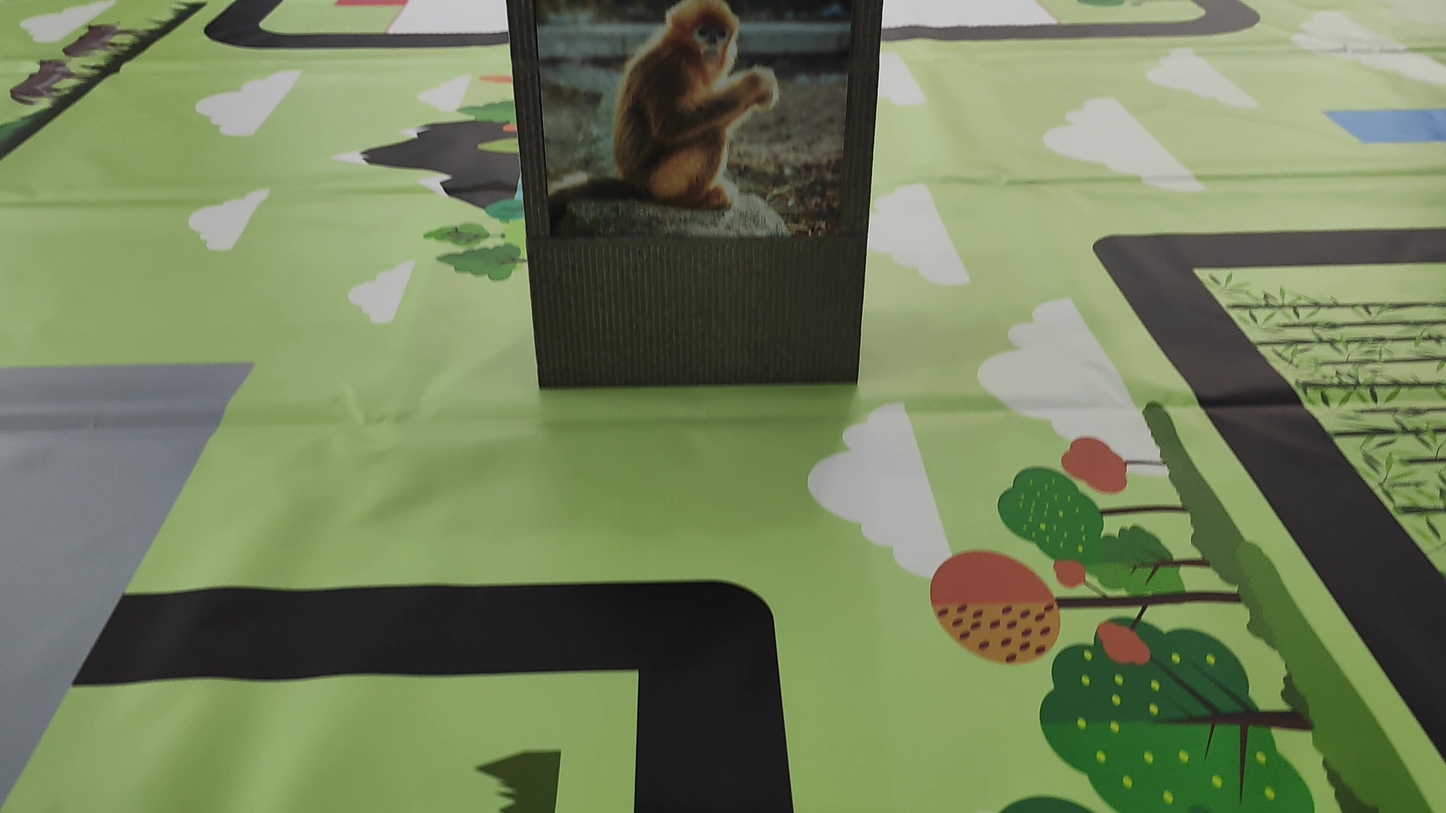monkey: (581, 8, 823, 227)
